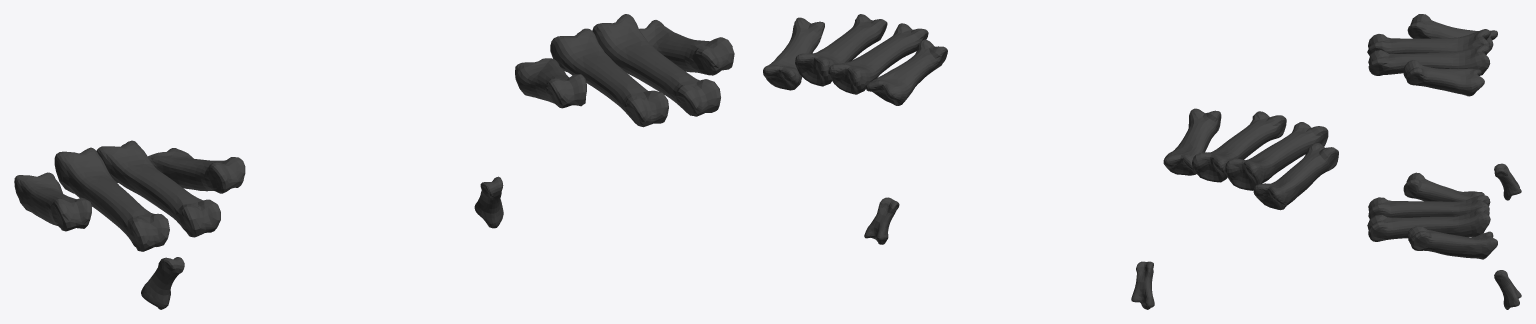
The picture shows the model from 3 angles, left to right: view 1: azimuth 30°, elevation 25°; view 2: azimuth 150°, elevation 25°; view 3: azimuth 270°, elevation 25°; orthographic projection. The views are drawn at different scales.
Visible parts, largest first — view 1: FL_P1_1; view 2: FL_P1_1; view 3: FL_P1_1.
Part boxes in pixels (x1,y1,x2,y2): FL_P1_1: (14,14,734,309); FL_P1_1: (763,14,1338,309); FL_P1_1: (1367,14,1521,309).
Size of the model in its own units: 0.00459 by 0.00131 by 0.00135.
Materials: 1 (1 with a texture image).
